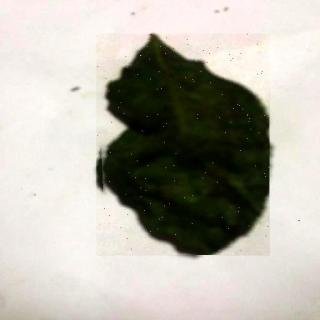Red Leaf Spot: (98, 35, 272, 258)
